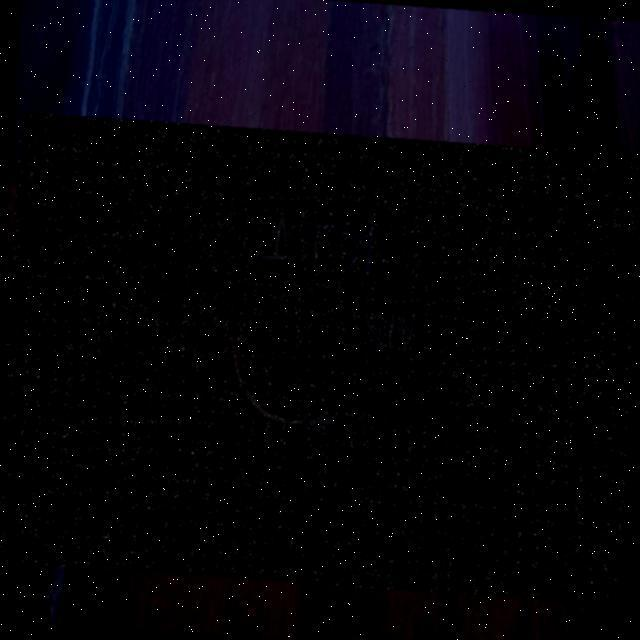Dent: (0, 111, 640, 604)
